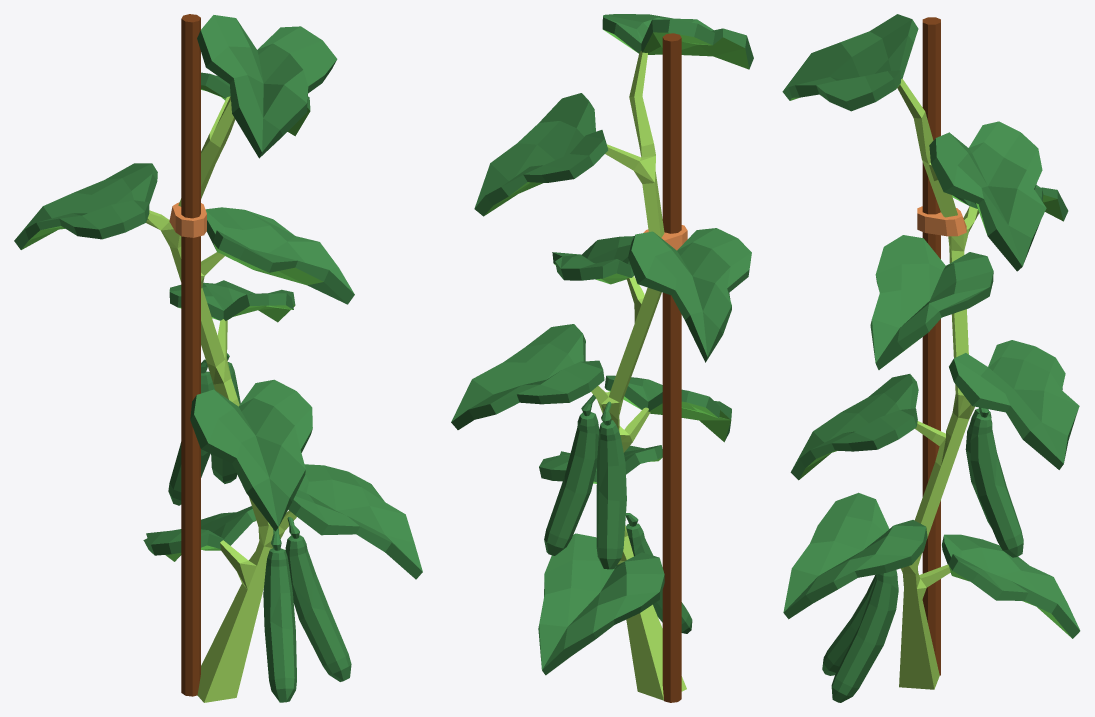
File: Cucumber_Growing_L.fbx
3 views of the same model, side by side, from view 1: azimuth 30°, elevation 25°; view 2: azimuth 150°, elevation 25°; view 3: azimuth 270°, elevation 25° (orthographic). The views are drawn at different scales.
Parts seen in each view (by area): view 1: Cucumber_Growing_L, Cucumber_02, Cucumber_01, Cucumber_04, Cucumber_03; view 2: Cucumber_Growing_L, Cucumber_04, Cucumber_03, Cucumber_02; view 3: Cucumber_Growing_L, Cucumber_03, Cucumber_01, Cucumber_02, Cucumber_04.
Boxes of the visible parts, left/top/right/bottom form: Cucumber_Growing_L: left=14, top=14, right=422, bottom=702; Cucumber_02: left=263, top=543, right=296, bottom=702; Cucumber_01: left=285, top=532, right=351, bottom=681; Cucumber_04: left=168, top=366, right=214, bottom=505; Cucumber_03: left=211, top=356, right=240, bottom=483; Cucumber_Growing_L: left=451, top=14, right=753, bottom=702; Cucumber_04: left=596, top=418, right=626, bottom=569; Cucumber_03: left=544, top=408, right=599, bottom=555; Cucumber_02: left=626, top=520, right=692, bottom=633; Cucumber_Growing_L: left=782, top=14, right=1080, bottom=689; Cucumber_03: left=970, top=411, right=1023, bottom=557; Cucumber_01: left=831, top=570, right=898, bottom=702; Cucumber_02: left=822, top=574, right=877, bottom=675; Cucumber_04: left=965, top=408, right=991, bottom=527.
Size of the model in its own units: 20.66 by 49.53 by 20.26.
